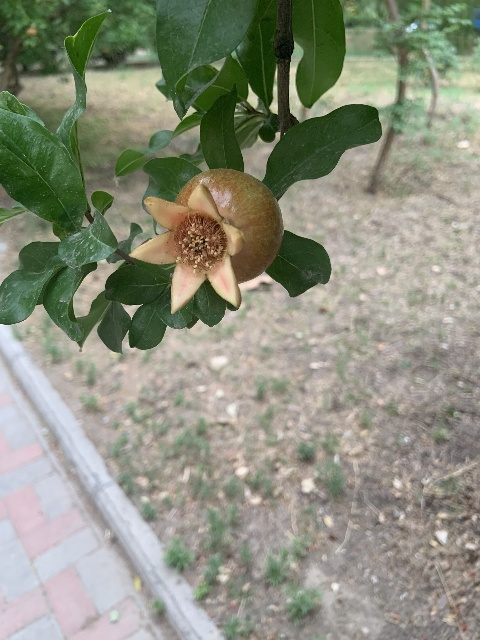early-fruit: (127, 168, 284, 316)
